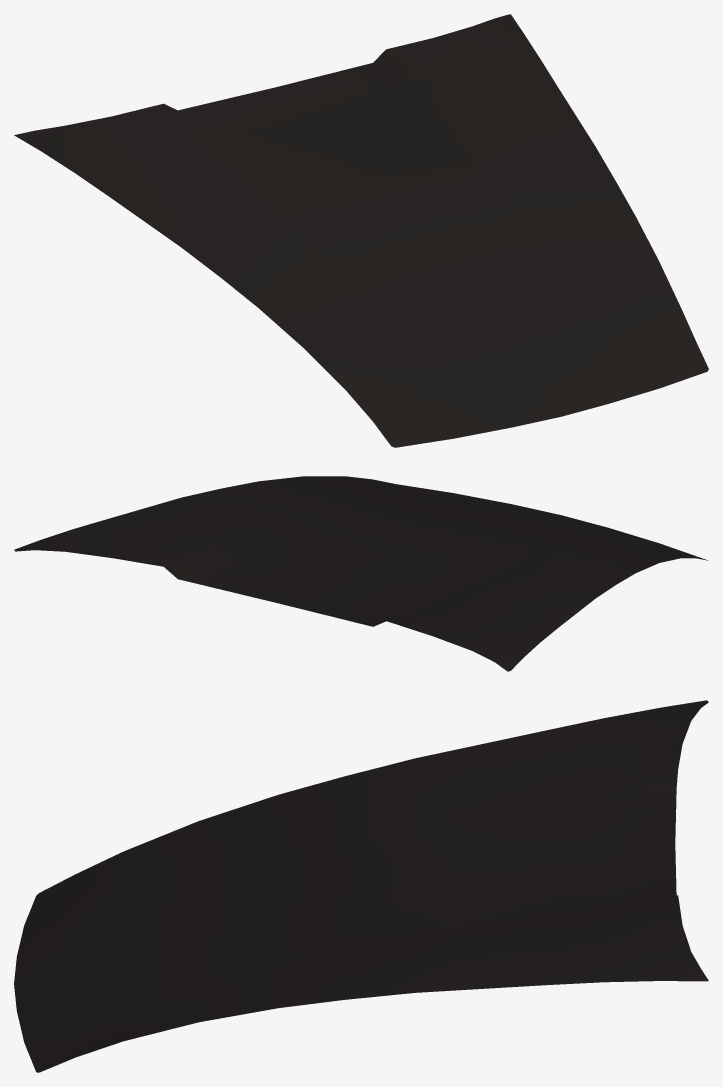
The model's file is RWB_993_Hood_01_Trim.fbx.
The picture shows the model from 3 angles, top to bottom: view 1: azimuth 30°, elevation 25°; view 2: azimuth 150°, elevation 25°; view 3: azimuth 270°, elevation 25°; orthographic projection. The views are drawn at different scales.
Visible parts, largest first — view 1: RWB_993_Hood_01_Trim; view 2: RWB_993_Hood_01_Trim; view 3: RWB_993_Hood_01_Trim.
Part boxes in pixels (bbox=[...]): RWB_993_Hood_01_Trim: bbox=[14, 14, 708, 447]; RWB_993_Hood_01_Trim: bbox=[14, 476, 707, 671]; RWB_993_Hood_01_Trim: bbox=[14, 700, 708, 1072].
Bounding box in the file's own units: 121 × 30.52 × 127.
